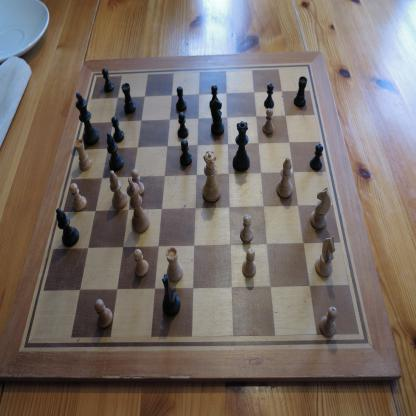black-bishop: (55, 208, 80, 248), (107, 132, 124, 172)
black-king: (76, 92, 100, 146)
black-knight: (162, 273, 180, 318), (210, 96, 224, 136)
black-pawn: (310, 144, 324, 170), (111, 116, 124, 143), (180, 140, 192, 168), (102, 68, 115, 93), (177, 112, 189, 139), (175, 86, 187, 112), (264, 83, 275, 109), (209, 84, 220, 110)
black-queen: (232, 121, 250, 172)
black-rook: (121, 82, 136, 115), (293, 76, 308, 108)
white-bishop: (276, 156, 293, 199), (110, 170, 128, 210)
white-king: (126, 176, 150, 234)
white-knight: (314, 235, 336, 278), (310, 187, 331, 230)
white-pawn: (318, 306, 338, 338), (94, 299, 113, 329), (70, 182, 88, 212), (133, 248, 149, 278), (242, 248, 256, 278), (131, 168, 145, 196), (240, 214, 253, 243), (262, 108, 274, 135)
white-queen: (202, 151, 221, 203)
white-rook: (74, 138, 93, 171), (166, 246, 183, 282)
